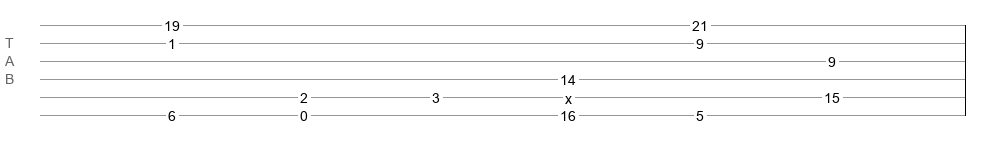0: (300, 108, 308, 118)
1: (168, 36, 176, 46)
14: (560, 72, 576, 82)
15: (824, 90, 840, 100)
16: (560, 108, 576, 118)
19: (164, 18, 180, 28)
2: (300, 90, 308, 100)
21: (692, 18, 708, 28)
3: (432, 90, 440, 100)
5: (696, 108, 704, 118)
6: (168, 108, 176, 118)
9: (696, 36, 704, 46), (828, 54, 836, 64)
x: (565, 91, 572, 99)
